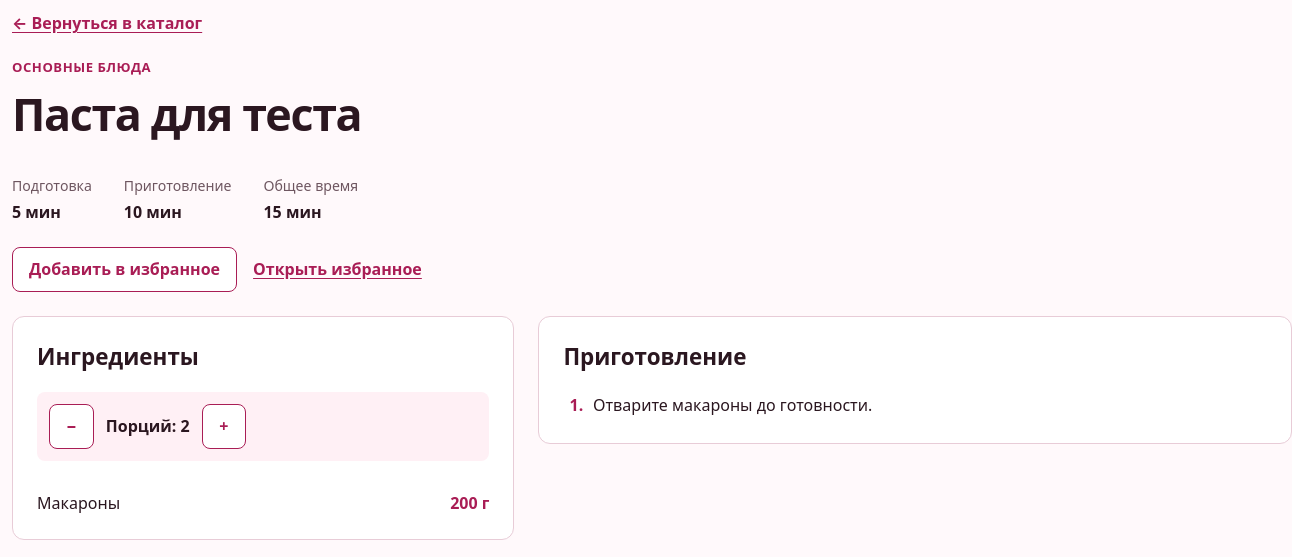
Scenario: открывает рецепт, пересчитывает ингредиенты и добавляет рецепт в избранное
expect the heading "Паста для теста" is shown: met, box left=12, top=83, right=361, bottom=144
expect the text "Порций: 2" is shown: met, box left=106, top=415, right=190, bottom=437
What coordinates should you click on to do the following:
click the button named "Увеличить порции"
I would click on:
 (224, 426)
Its box is left=202, top=404, right=246, bottom=449.
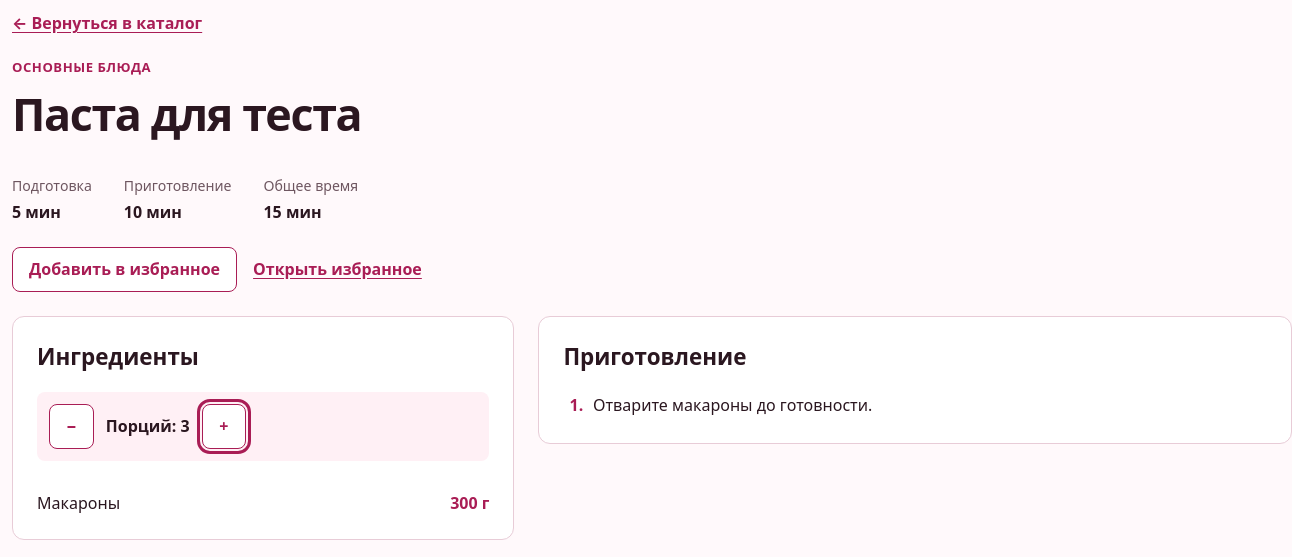
expect the text "Порций: 3" is shown: met, box left=106, top=415, right=190, bottom=437
expect the text "300 г" is shown: met, box left=450, top=491, right=489, bottom=515
expect the text "200 г" is gone: met
What coordinates should you click on to do the following:
click the button "Добавить в избранное"
I would click on:
 (125, 269)
Its box is left=12, top=247, right=237, bottom=292.
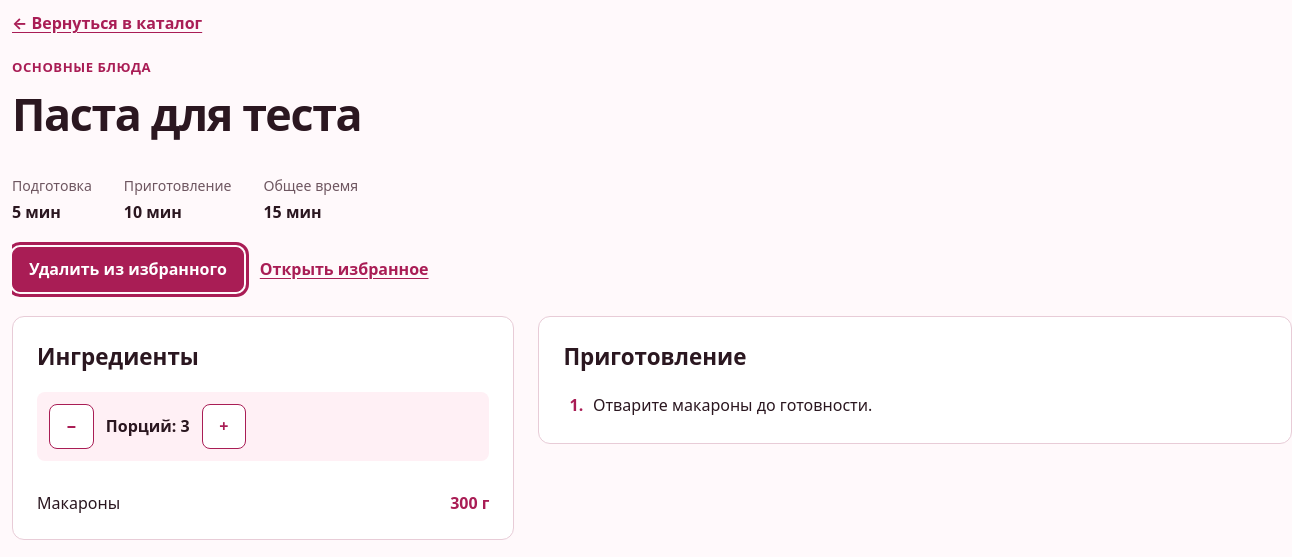
expect the button "Добавить в избранное" is gone: met
